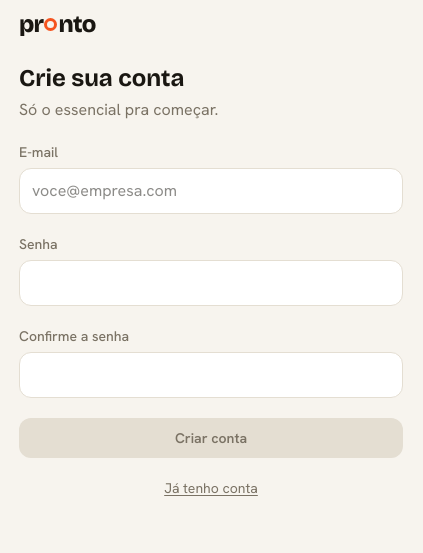
Test: CadastroContaPage › mostra a mensagem da API quando o registro falha (email duplicado)
In the field labelled "E-mail": (211, 191) [19,168,403,214], type "pessoa@example.com"
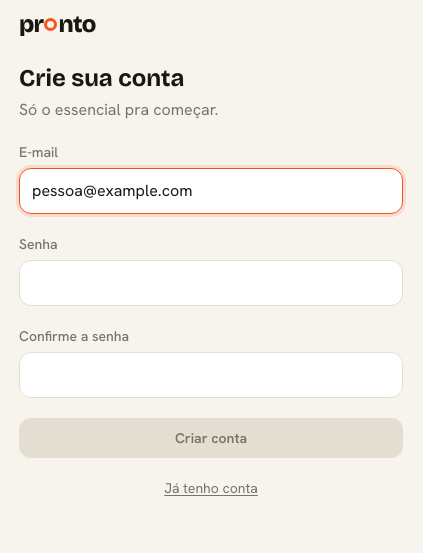
In the password field labelled "Senha": (211, 283) [19,260,403,306], type "12345678"
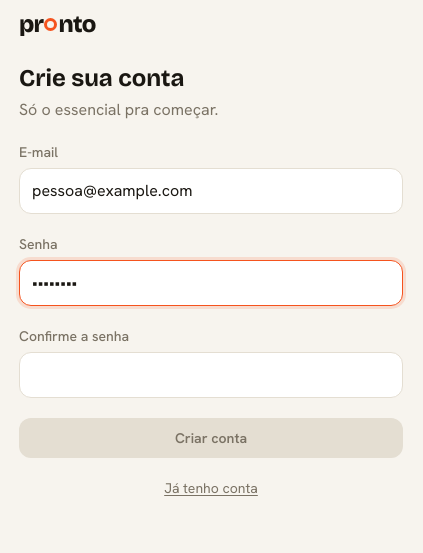
In the password field labelled "Confirme a senha": (211, 375) [19,352,403,398], type "12345678"
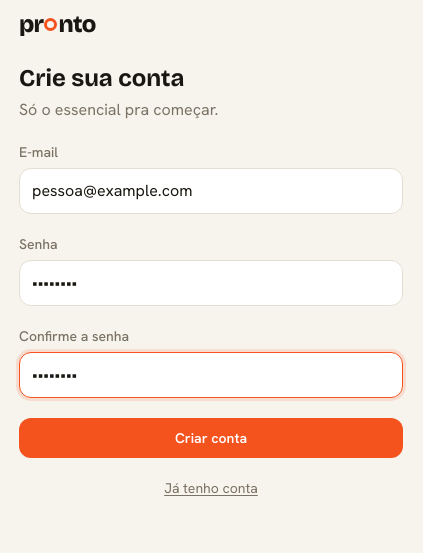
Click the button "Criar conta": (211, 438) [19,418,403,458]
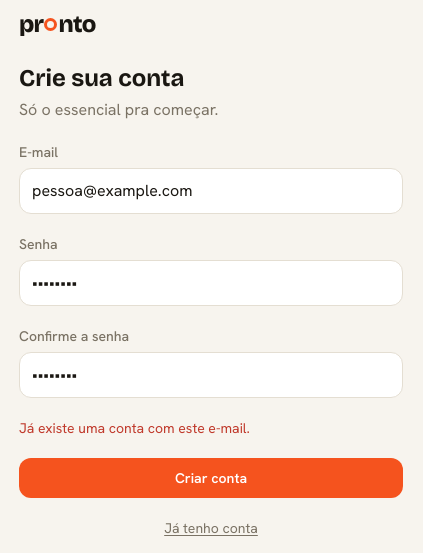
Check: the text "Já existe uma conta com este e-mail." is shown, box [19,419,250,437]
